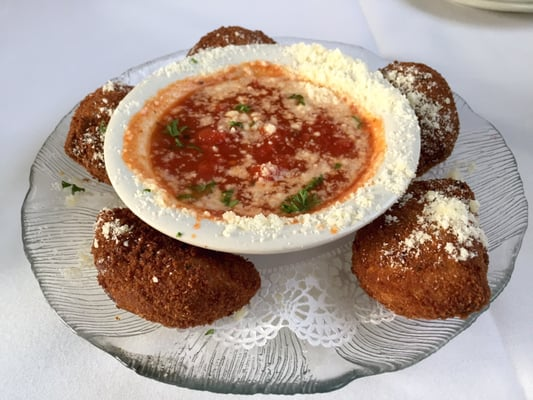curry: (26, 1, 533, 400)
salad: (351, 178, 492, 321), (379, 61, 461, 177)
sushi: (91, 208, 263, 330), (351, 177, 492, 320)
